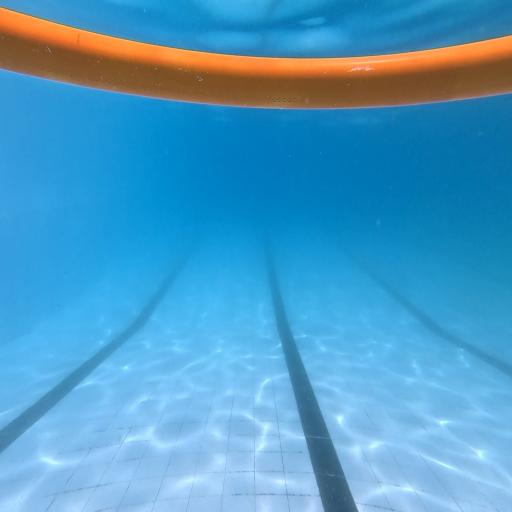upper_gate: (0, 6, 512, 110)
